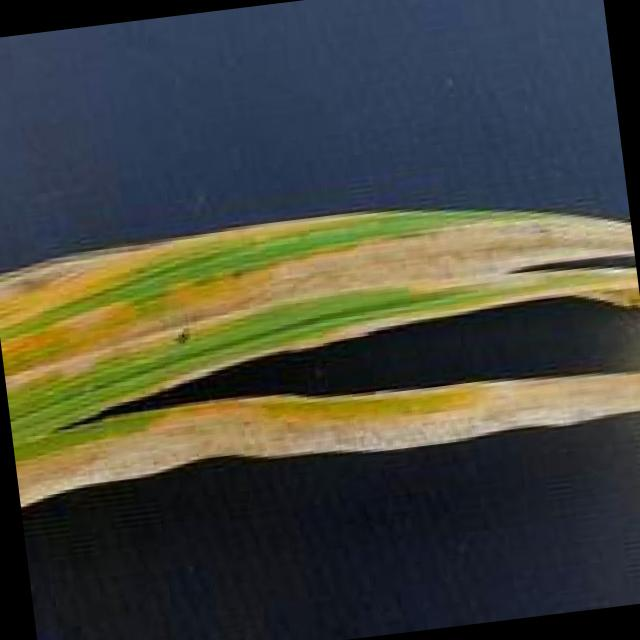Rice_Bacterial_Blight: (0, 175, 638, 523)
